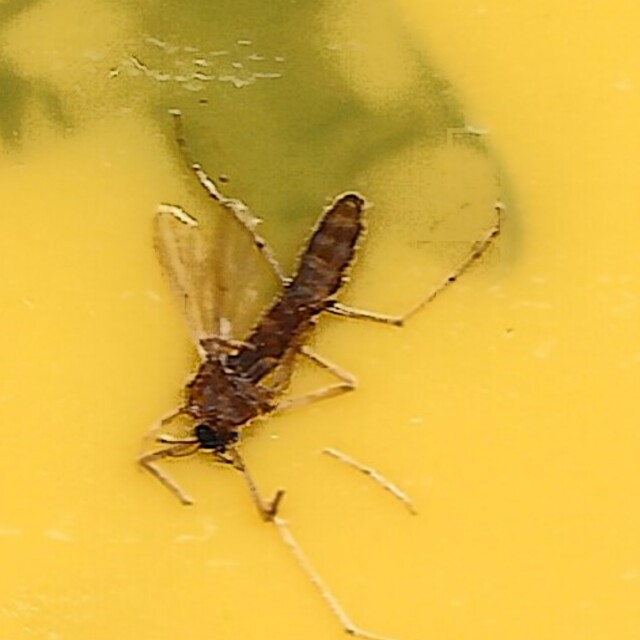Nematocera: (136, 124, 504, 516)
